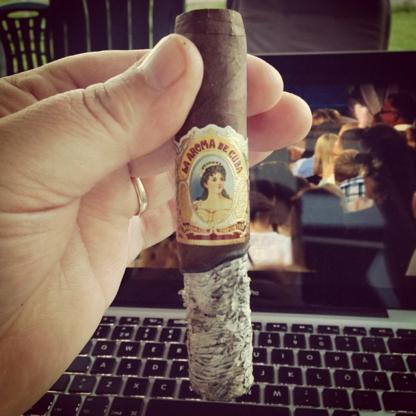board: (21, 47, 416, 415)
